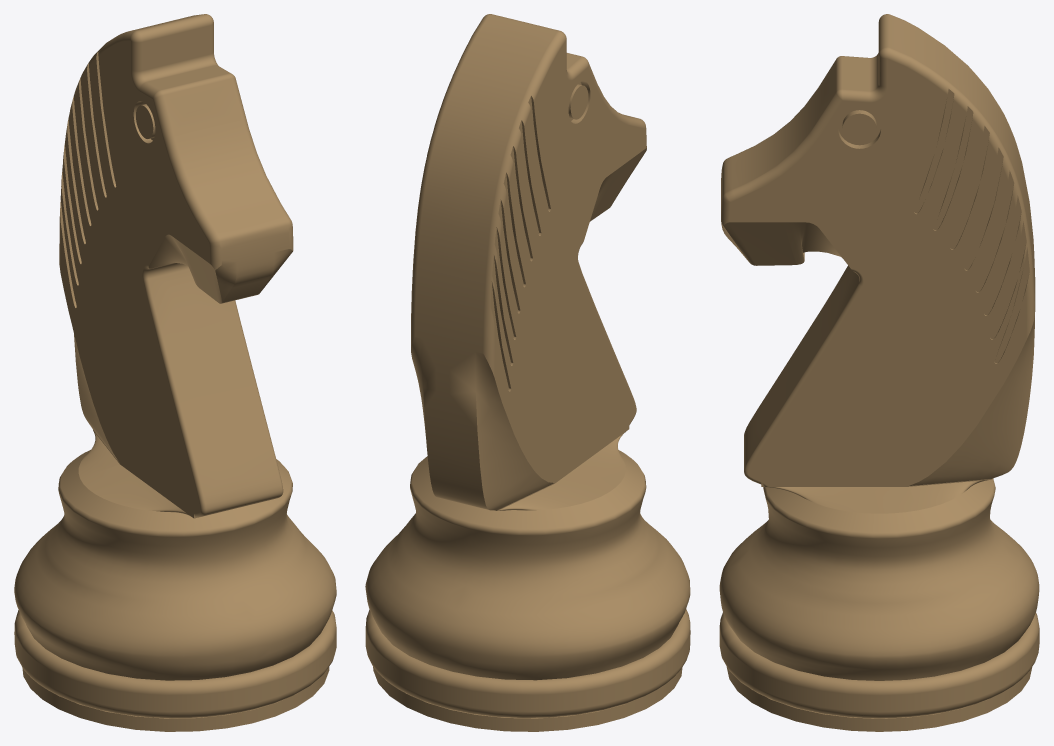
The model's file is KnightGold.fbx.
3 views of the same model, side by side, from view 1: azimuth 30°, elevation 25°; view 2: azimuth 150°, elevation 25°; view 3: azimuth 270°, elevation 25° (orthographic).
Visible parts, largest first — view 1: Конь (1) (1); view 2: Конь (1) (1); view 3: Конь (1) (1).
Part boxes in pixels (<box>): Конь (1) (1): <box>14,14,336,731</box>; Конь (1) (1): <box>365,14,690,731</box>; Конь (1) (1): <box>719,14,1039,731</box>.
Size of the model in its own units: 1.87 by 4.1 by 1.87.
